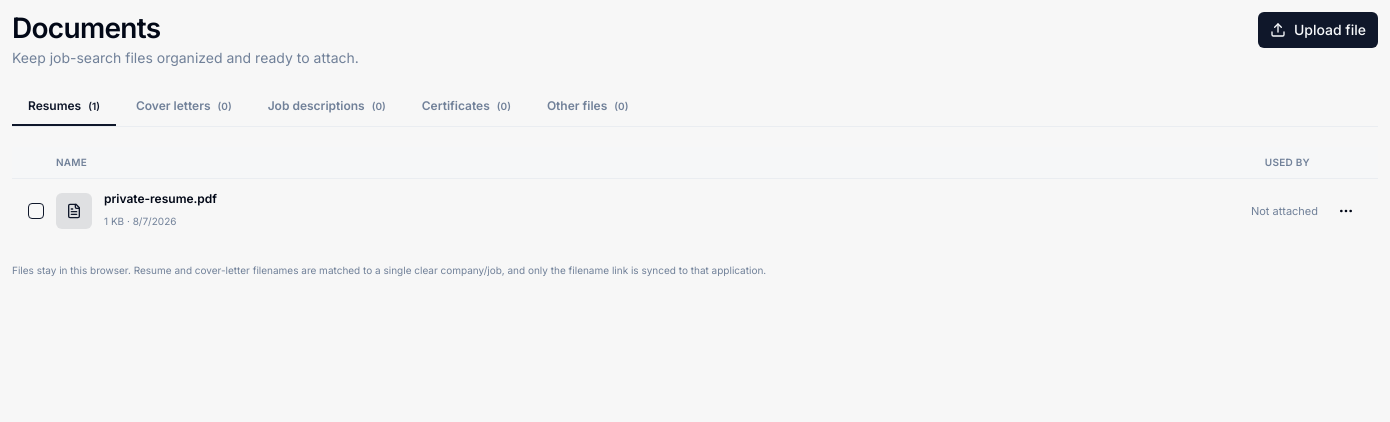
Scenario: Documents › continues rendering Preview for allowlisted PDF documents
The width and height of the screenshot is (1390, 422).
Press the mouse on the button named "Actions for private-resume.pdf" at (1346, 211), box [1330,195,1362,227]
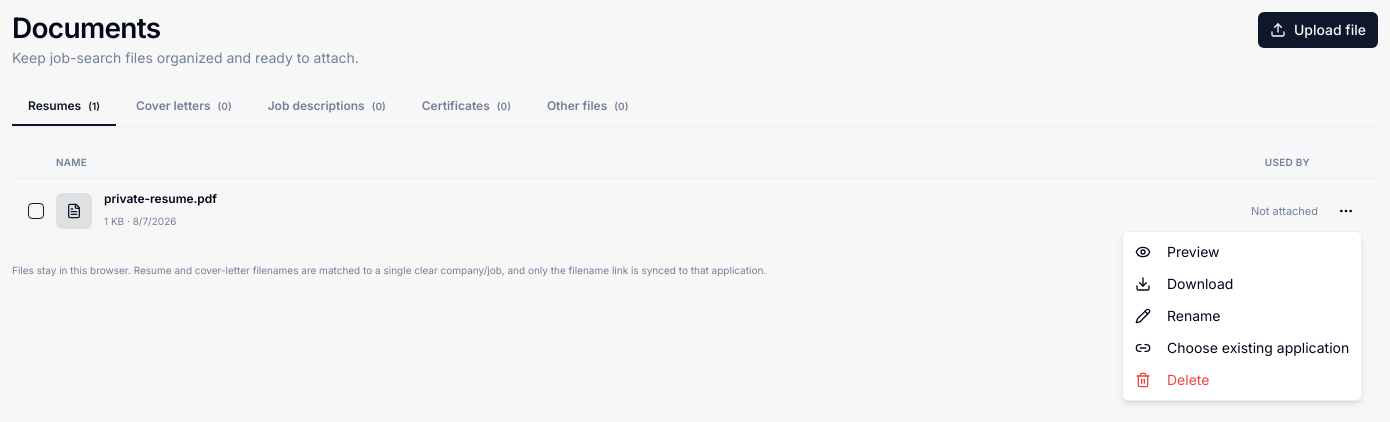
Result: the menu item "Download" is shown at [1135,275,1233,292]
